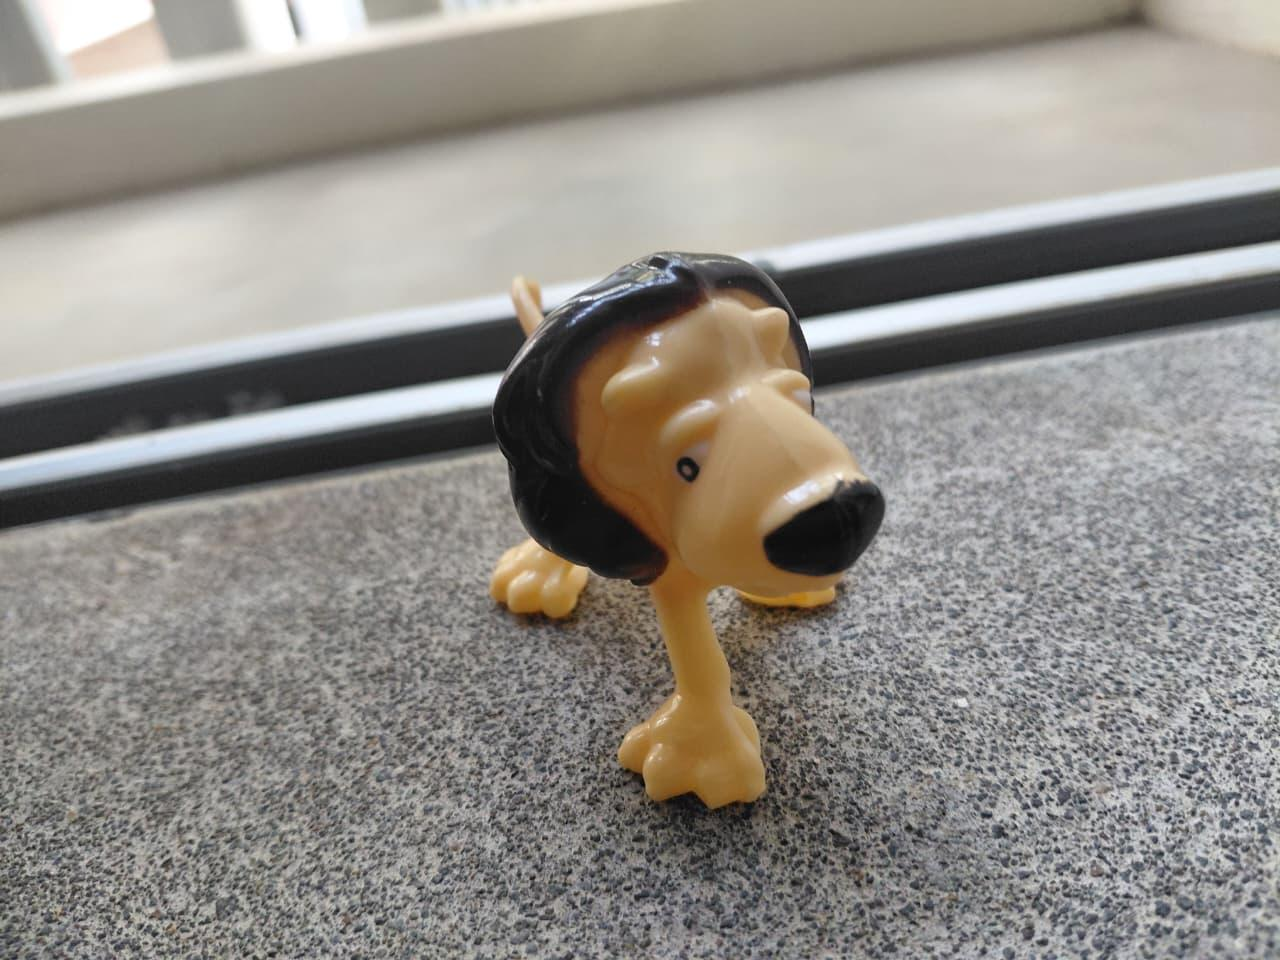lion: (458, 205, 1005, 852)
